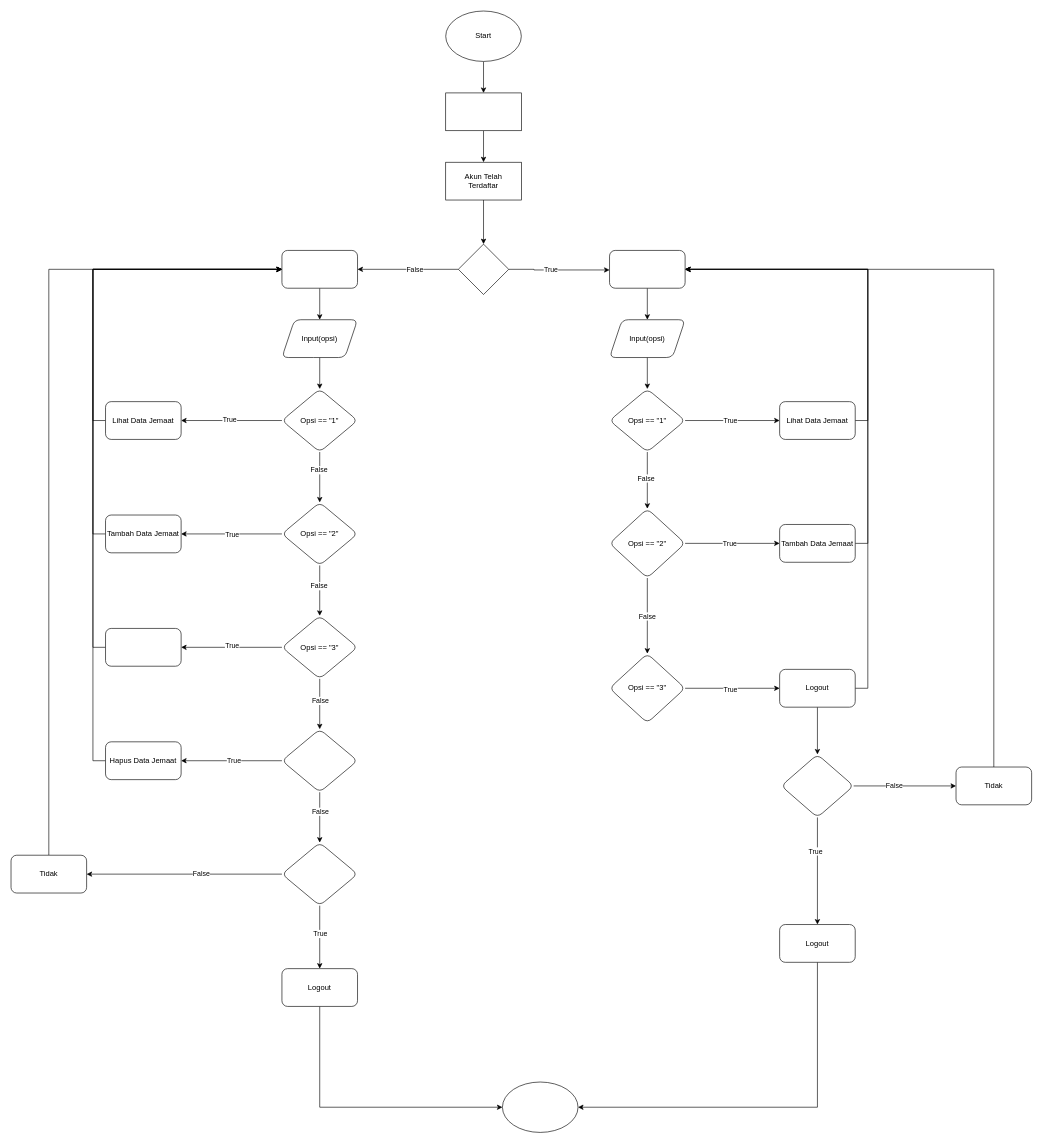
Some shapes in this 1043 by 1143 pixel diagram are drawn without their labels. Here are the shapes that lost their labels. From the top down, the centre of each, then its label:
[483,111]: Daftar Akun
[319,269]: Admin
[483,269]: Login
[647,269]: Jemaat
[143,647]: Update Data Jemaat
[319,760]: Opsi == "4"
[817,785]: Yakin Keluar?
[319,874]: Opsi == "5"
[540,1106]: End
